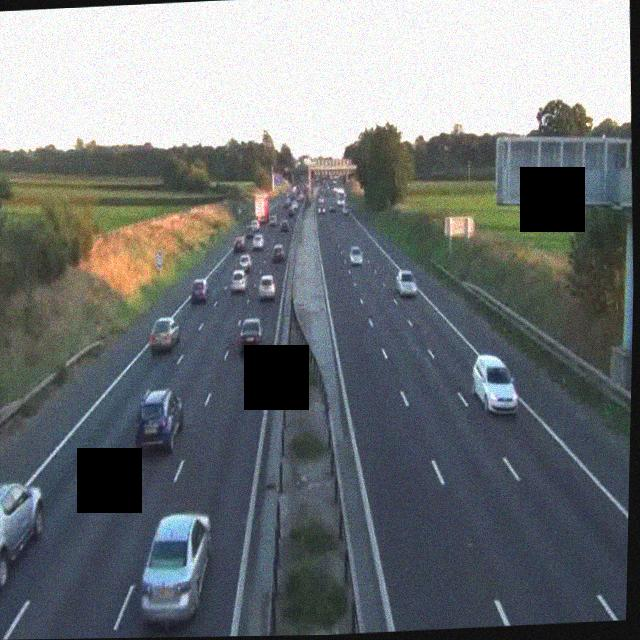car: (137, 512, 215, 625), (0, 481, 45, 595), (133, 388, 184, 455), (470, 353, 519, 414), (148, 316, 181, 352), (236, 316, 264, 355), (395, 266, 418, 298), (256, 271, 276, 301), (229, 265, 249, 295), (189, 278, 209, 303), (347, 245, 364, 266), (271, 242, 284, 260), (232, 235, 246, 251), (251, 233, 264, 249), (278, 218, 289, 232), (317, 201, 325, 213), (319, 201, 327, 213), (288, 205, 296, 217), (341, 205, 349, 216)
truck: (252, 191, 270, 227), (333, 186, 346, 212)
